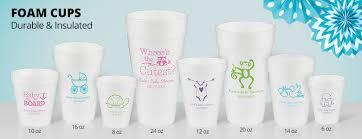Plastic cup: (1, 1, 362, 139)
